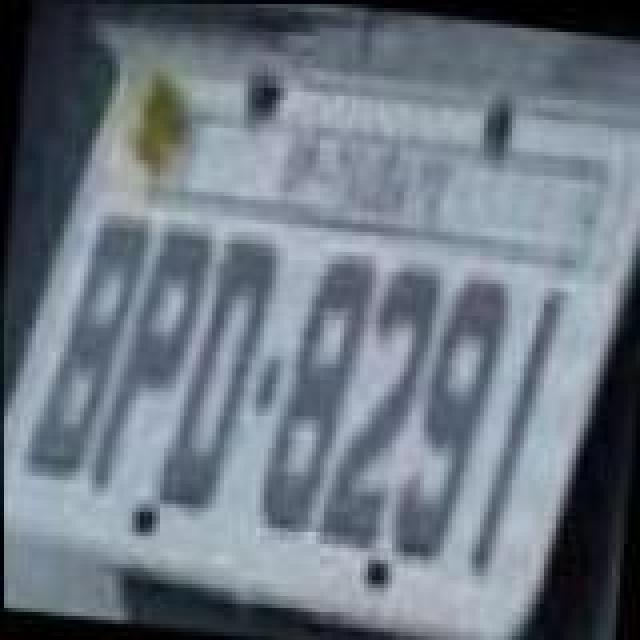1: (460, 280, 564, 588)
2: (312, 254, 440, 554)
8: (256, 242, 384, 542)
9: (384, 266, 512, 574)
B: (24, 210, 156, 490)
D: (156, 228, 280, 524)
P: (88, 218, 220, 510)
